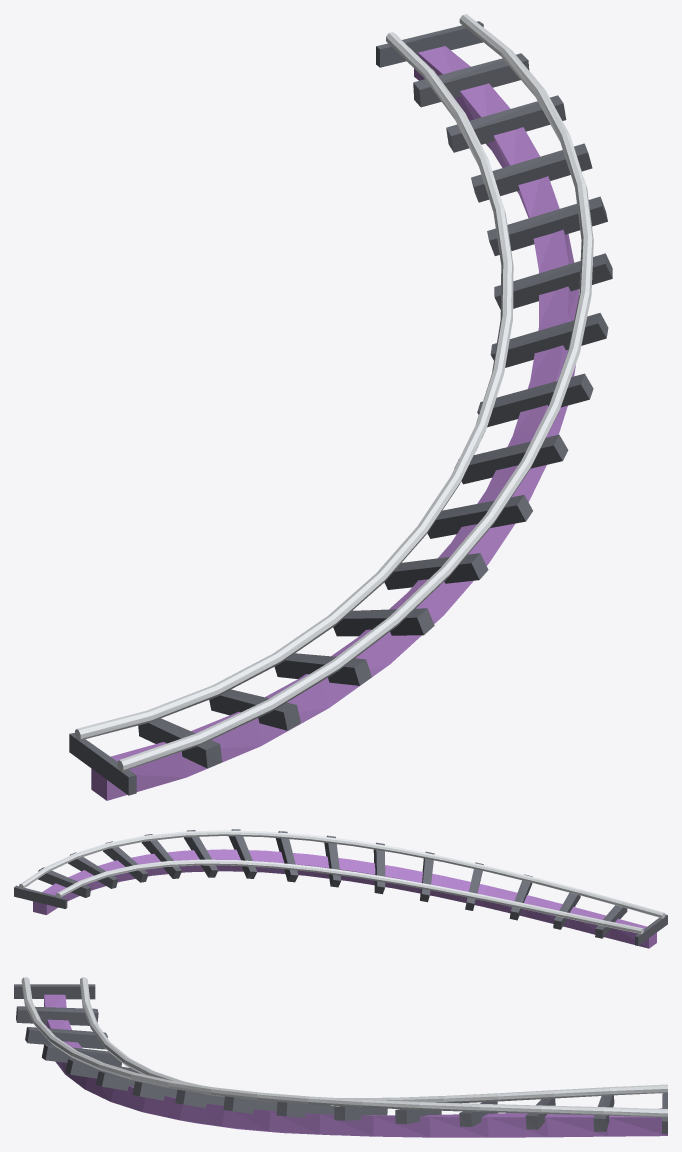
The model's file is theme-park-rides-and-coasters-theme-park-rides-and-coa-cf888245__28628.glb.
3 views of the same model, one above another, from view 1: azimuth 30°, elevation 25°; view 2: azimuth 150°, elevation 25°; view 3: azimuth 270°, elevation 25° (orthographic). The views are drawn at different scales.
Parts seen in each view (by area): view 1: theme-park-rides-and-coasters-track-helix-quarter; view 2: theme-park-rides-and-coasters-track-helix-quarter; view 3: theme-park-rides-and-coasters-track-helix-quarter.
Boxes of the visible parts, left/top/right/bottom form: theme-park-rides-and-coasters-track-helix-quarter: left=69, top=14, right=612, bottom=800; theme-park-rides-and-coasters-track-helix-quarter: left=14, top=829, right=667, bottom=948; theme-park-rides-and-coasters-track-helix-quarter: left=14, top=977, right=667, bottom=1137.
Size of the model in its own units: 8.53 by 2.5 by 8.53.
